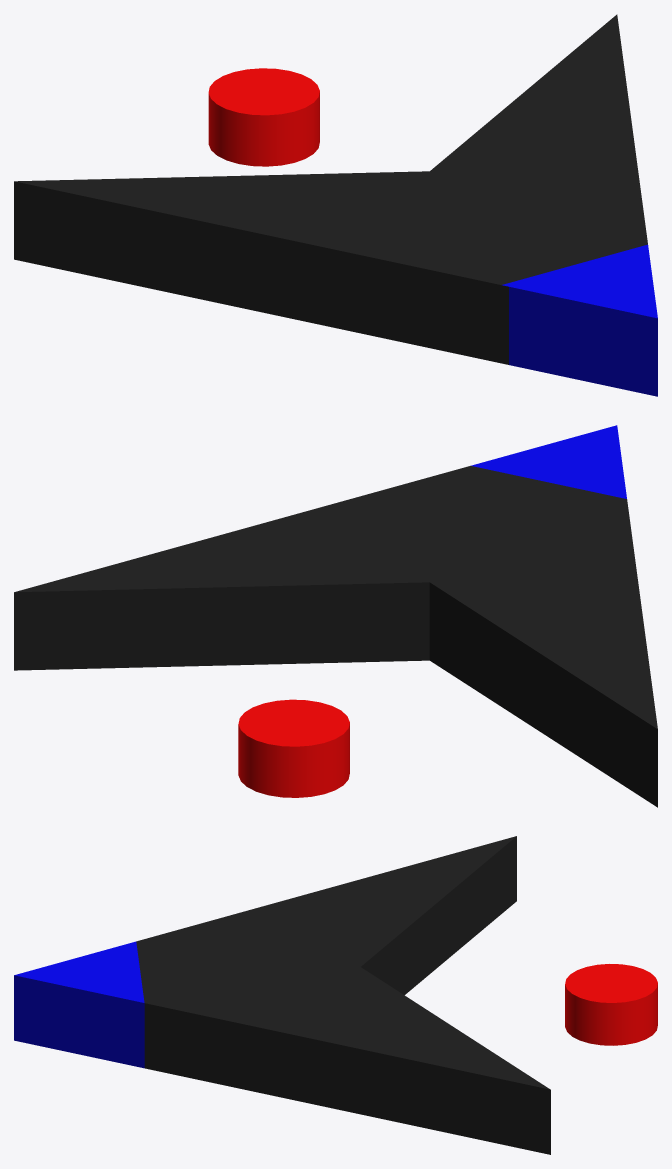
Rendered from models 3.fbx.
3 views of the same model, one above another, from view 1: azimuth 30°, elevation 25°; view 2: azimuth 150°, elevation 25°; view 3: azimuth 270°, elevation 25° (orthographic). The views are drawn at different scales.
Parts seen in each view (by area): view 1: Group2, Group1; view 2: Group2, Group1; view 3: Group2, Group1.
Boxes of the visible parts, x1,y1,x2,y2 form: Group2: (14, 14, 657, 396); Group1: (208, 68, 319, 166); Group2: (14, 425, 657, 807); Group1: (238, 699, 349, 797); Group2: (14, 836, 550, 1154); Group1: (565, 964, 657, 1045).
Bounding box in the file's own units: 9.17 × 1.1 × 9.83.
